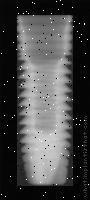OsseoLink: (17, 14, 78, 186)
